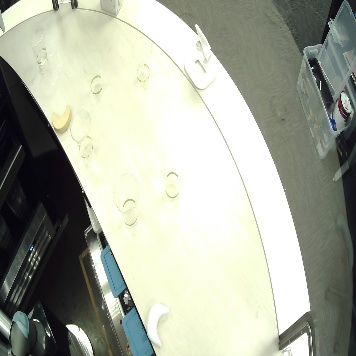empty_cup: (158, 144, 185, 198), (113, 171, 140, 225), (129, 37, 156, 87), (68, 107, 95, 157), (81, 50, 107, 96), (26, 25, 52, 71)
puck: (144, 299, 173, 349), (48, 104, 72, 134)
